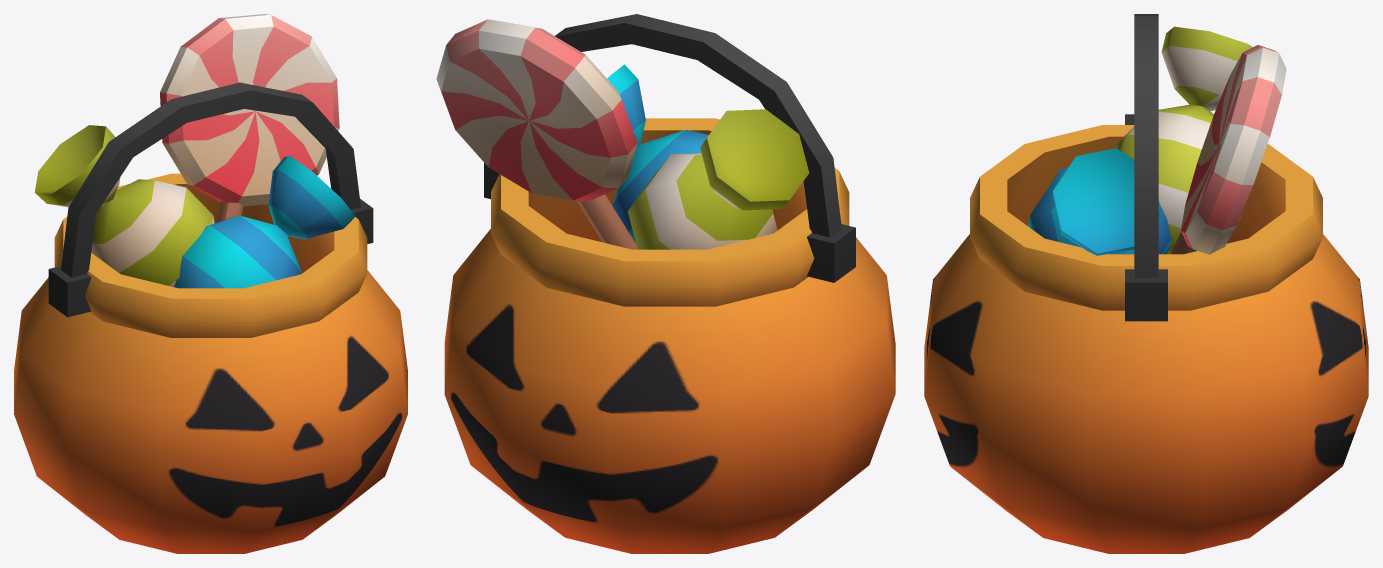
Rendered from candy_bucket_B_decorated.gltf.
3 views of the same model, side by side, from view 1: azimuth 30°, elevation 25°; view 2: azimuth 150°, elevation 25°; view 3: azimuth 270°, elevation 25° (orthographic). The views are drawn at different scales.
Visible parts, largest first — view 1: candy_bucket_B_decorated, candy_bucket_B_decorated_handle; view 2: candy_bucket_B_decorated, candy_bucket_B_decorated_handle; view 3: candy_bucket_B_decorated, candy_bucket_B_decorated_handle.
Part boxes in pixels (<box>): candy_bucket_B_decorated: <box>14,14,407,553</box>; candy_bucket_B_decorated_handle: <box>48,82,373,317</box>; candy_bucket_B_decorated: <box>436,19,895,553</box>; candy_bucket_B_decorated_handle: <box>484,14,855,282</box>; candy_bucket_B_decorated: <box>924,26,1368,553</box>; candy_bucket_B_decorated_handle: <box>1125,14,1167,321</box>.
Bounding box in the file's own units: 1 × 1.23 × 1.
1 material, 1 textured.
